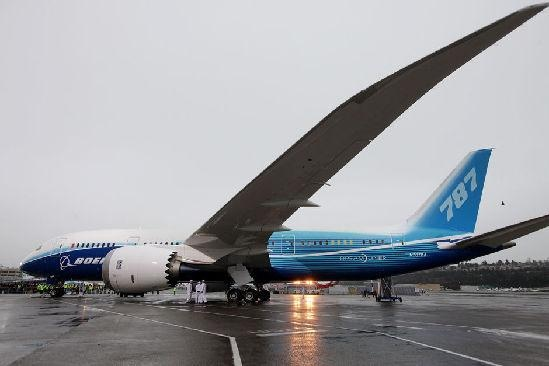airplane: (12, 1, 549, 302)
